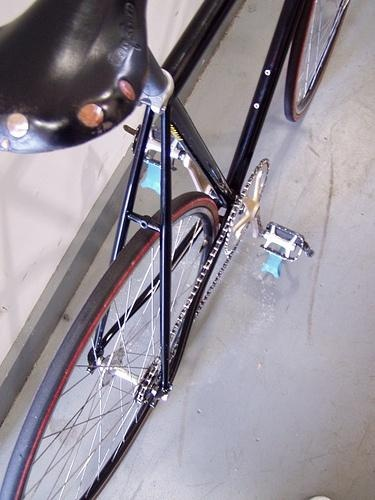bicycle: (3, 1, 351, 499)
